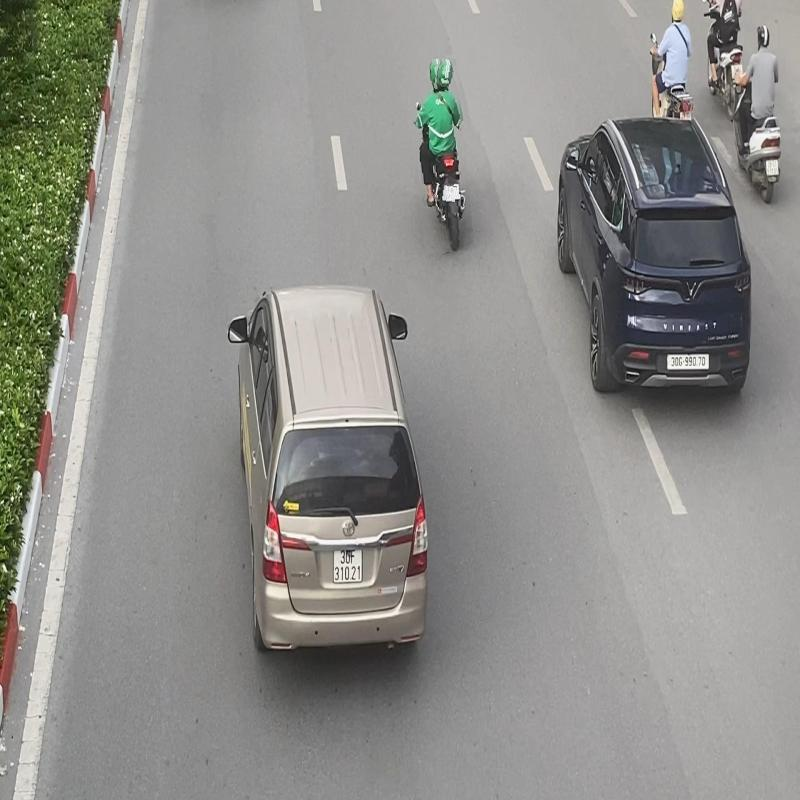helmet: (435, 57, 455, 90)
licenseplate: (442, 184, 457, 202)
motorcyclist: (412, 56, 470, 254)
